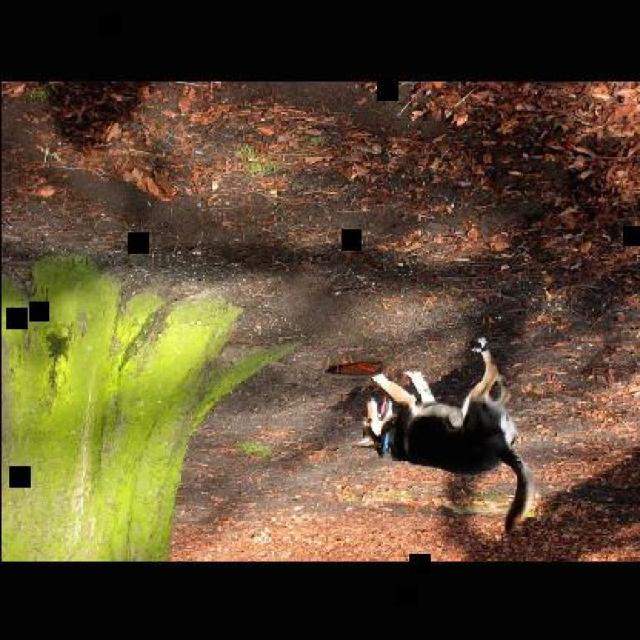unauthorized: (352, 334, 532, 534)
